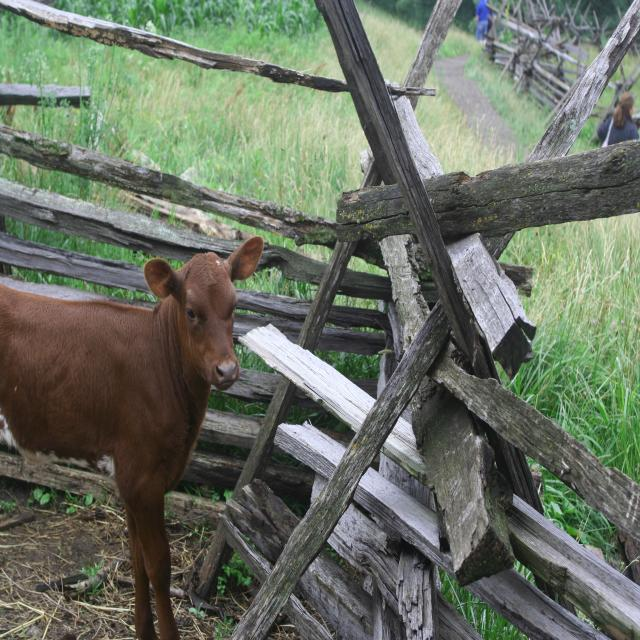cow: (0, 236, 264, 639)
